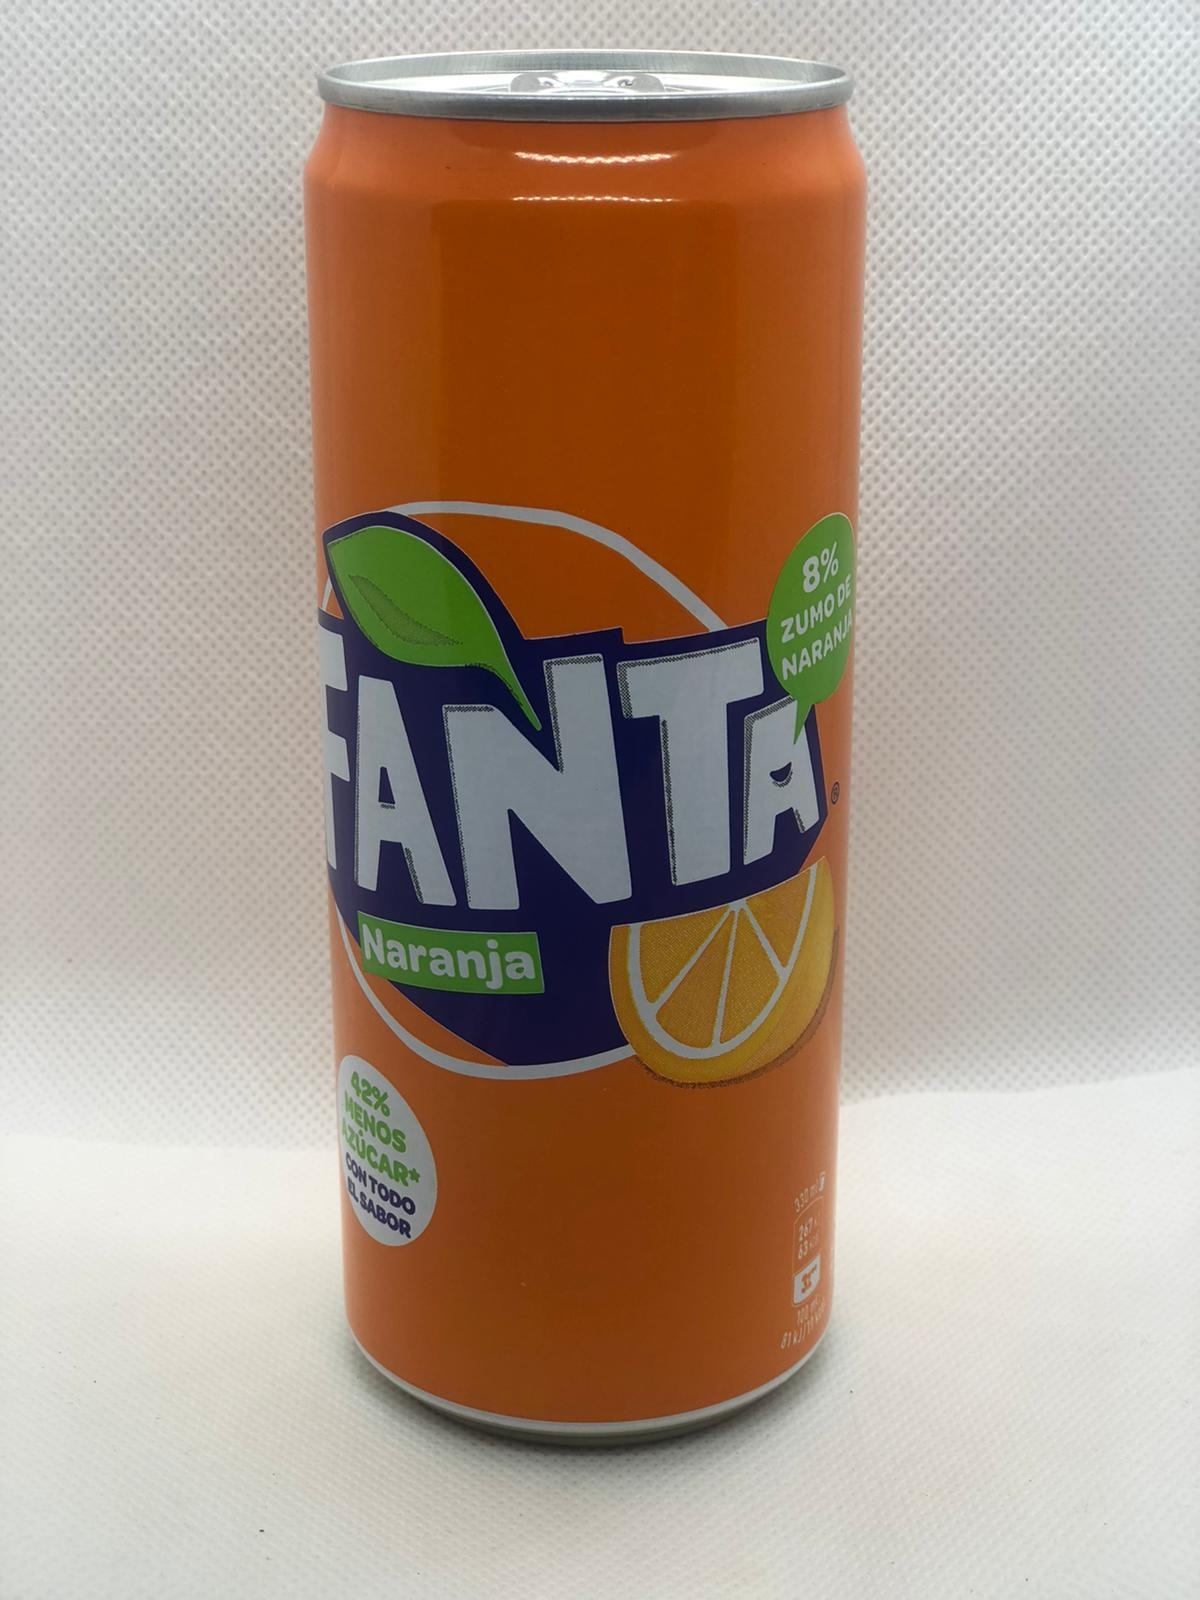metal: (297, 47, 870, 1455)
